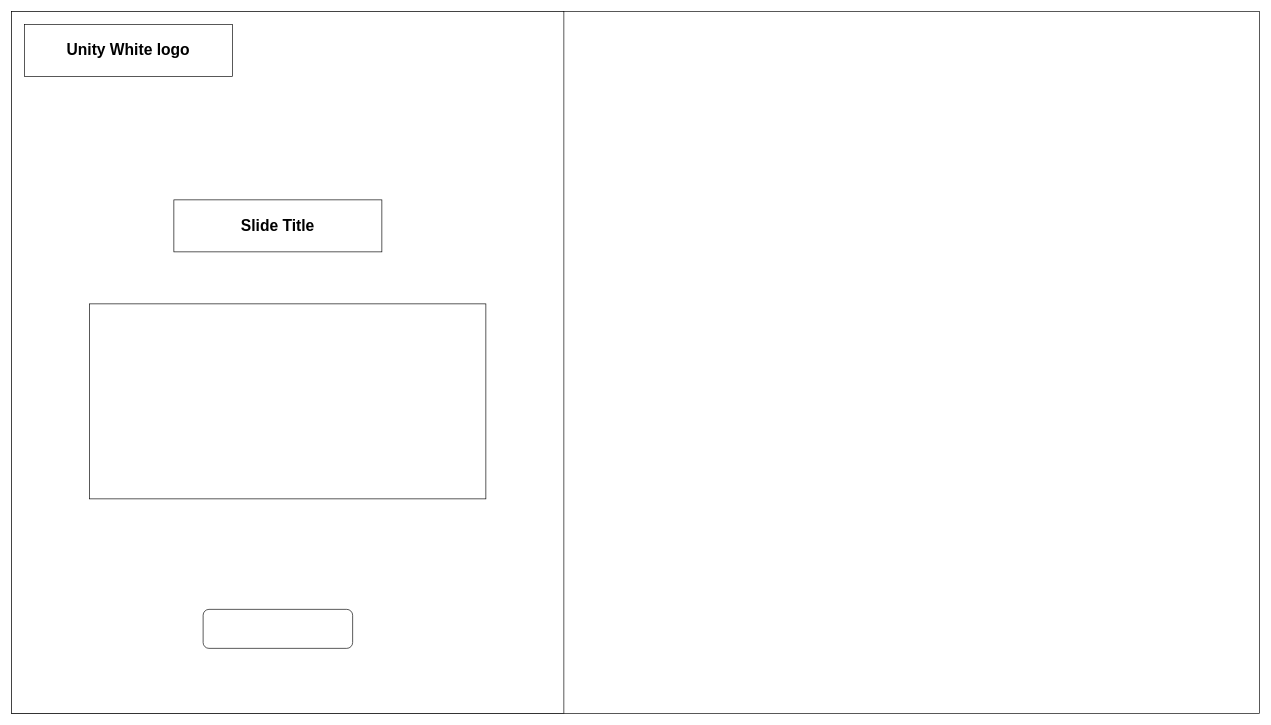
Some shapes in this 1271 by 725 pixel diagram are drawn without their labels. Here are the shapes that lost their labels. From the top down, the centre of each, then its label:
the point at 287,401: Slide Text
the point at 277,628: Start Here
